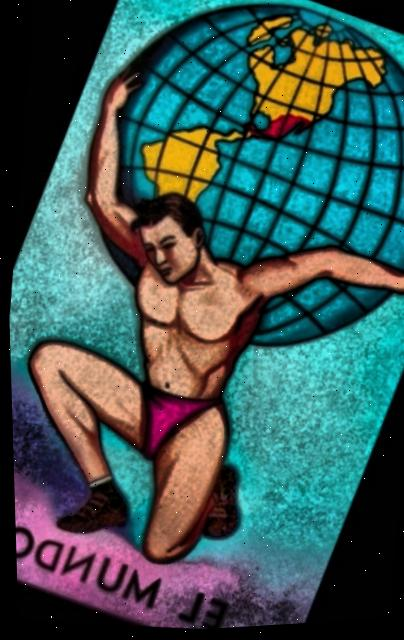El Mundo: (8, 0, 404, 630)
